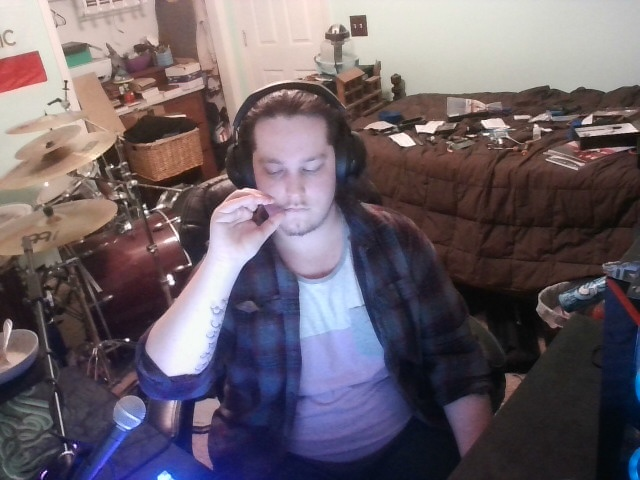drink: (198, 178, 288, 277)
